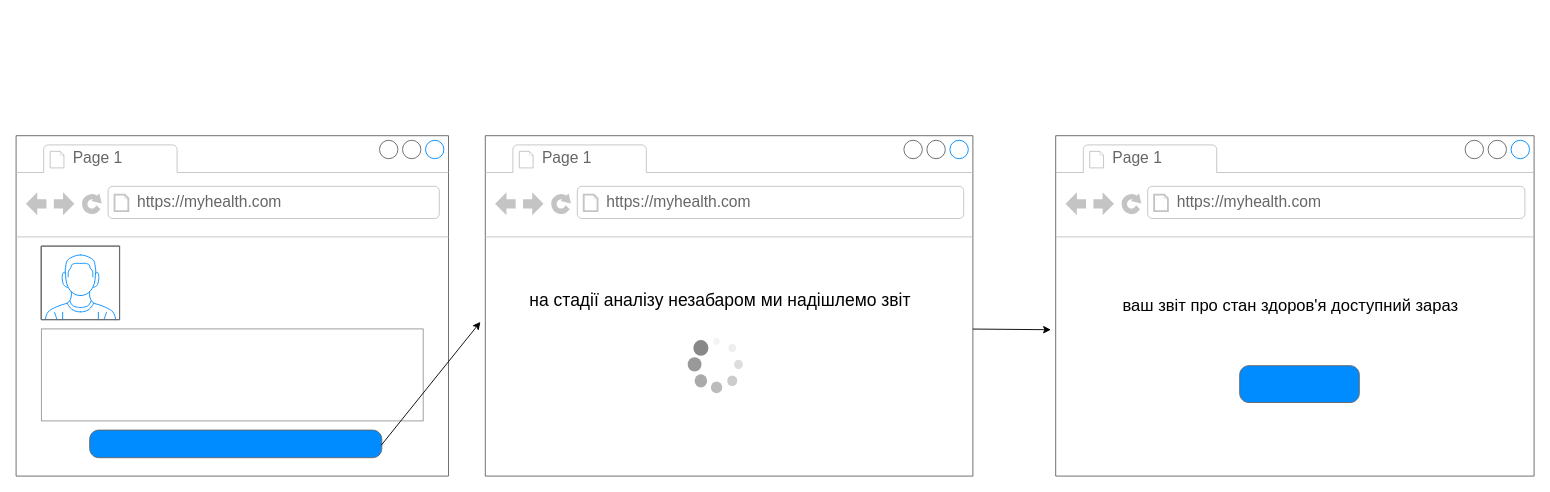
The diagram is 1550 pixels wide and 492 high, and some of its shapes have lost their labels. Each missing label, with the centre of its shape:
"завантажити" belongs at pixel 1299 383.
"поставити запитання чи проблему" belongs at pixel 235 443.
